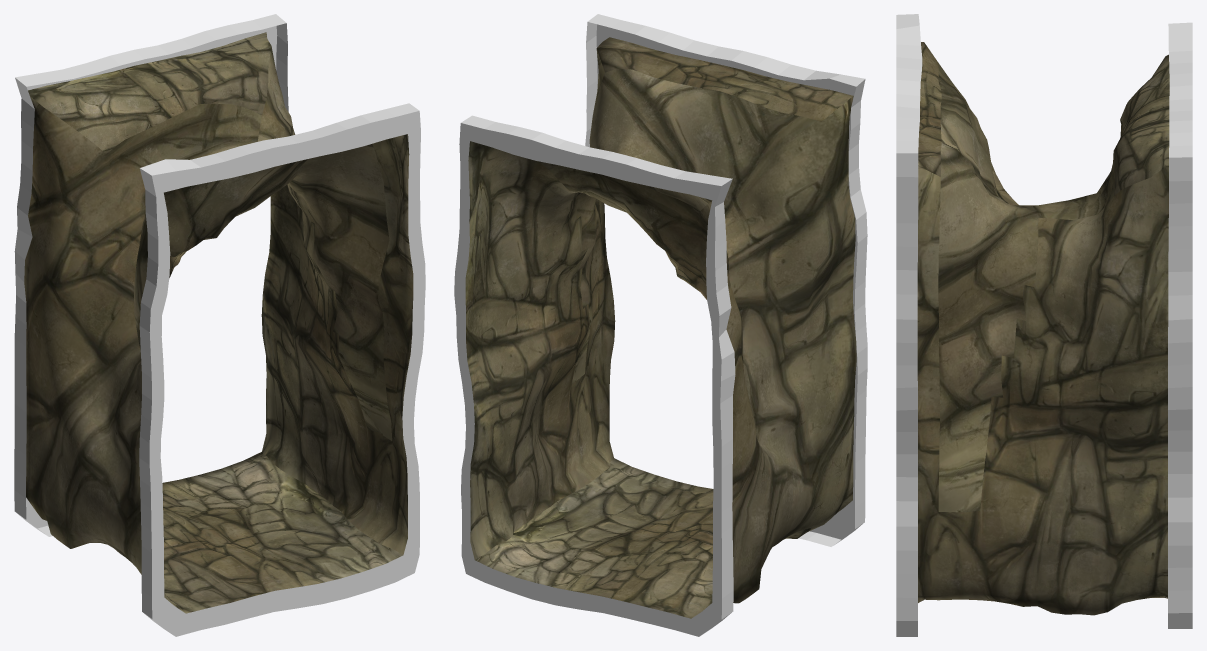
Rendered from cave module 7.fbx.
3 renders of one model, left to right at view 1: azimuth 30°, elevation 25°; view 2: azimuth 150°, elevation 25°; view 3: azimuth 270°, elevation 25°, orthographic. The views are drawn at different scales.
Parts seen in each view (by area): view 1: Plane.7; view 2: Plane.7; view 3: Plane.7.
Part boxes in pixels (x1,y1,x2,y2): Plane.7: [14, 14, 425, 636]; Plane.7: [454, 14, 867, 636]; Plane.7: [896, 14, 1192, 636].
Size of the model in its own units: 683 by 1113 by 600.
